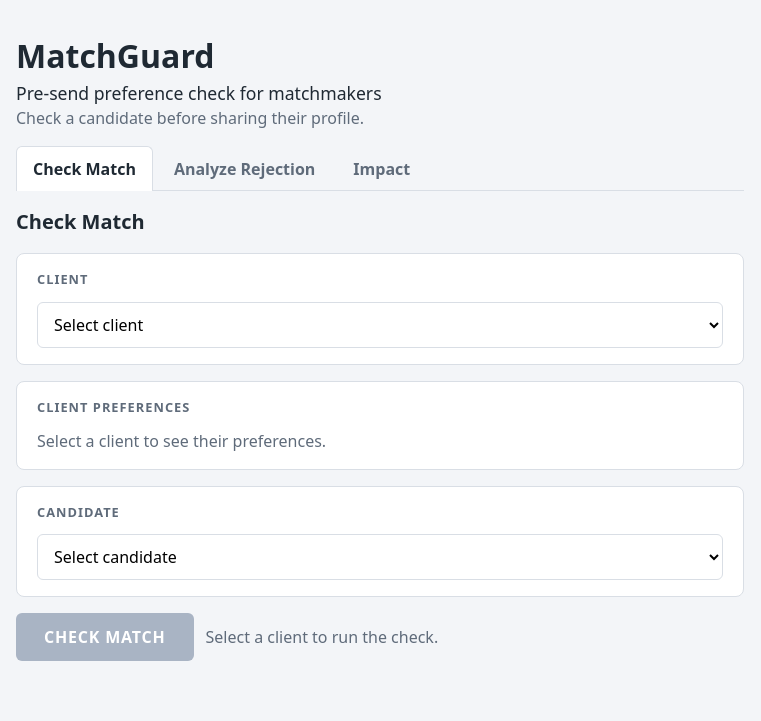
Test: App › runs a check and shows the result
Select "Rahul" in the dropdown labelled "Client" at point(380, 325), box x1=37 y1=302 x2=723 y2=348
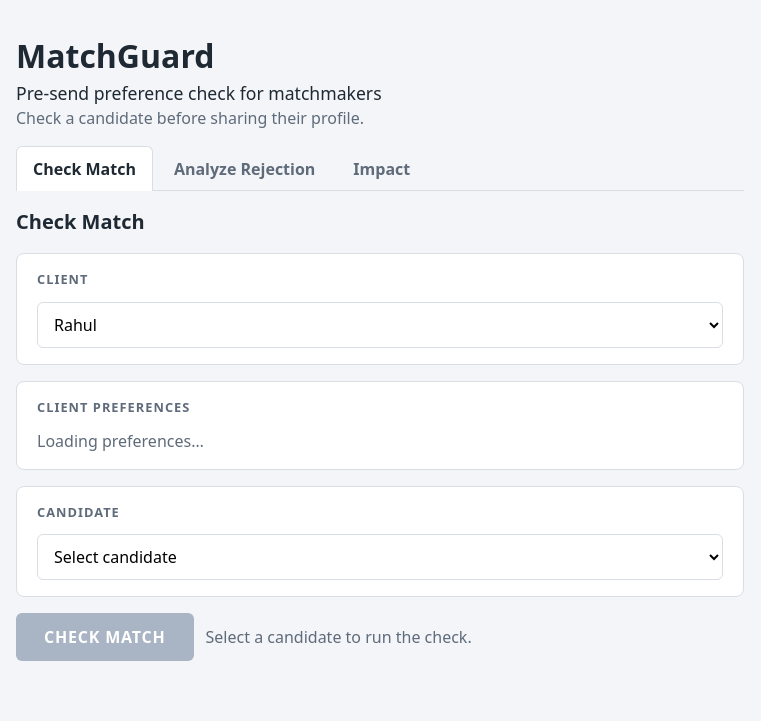
Select "Ishita — 29 · Delhi NCR" in the dropdown labelled "Candidate" at point(380, 557), box x1=37 y1=534 x2=723 y2=580
(page scrolled)
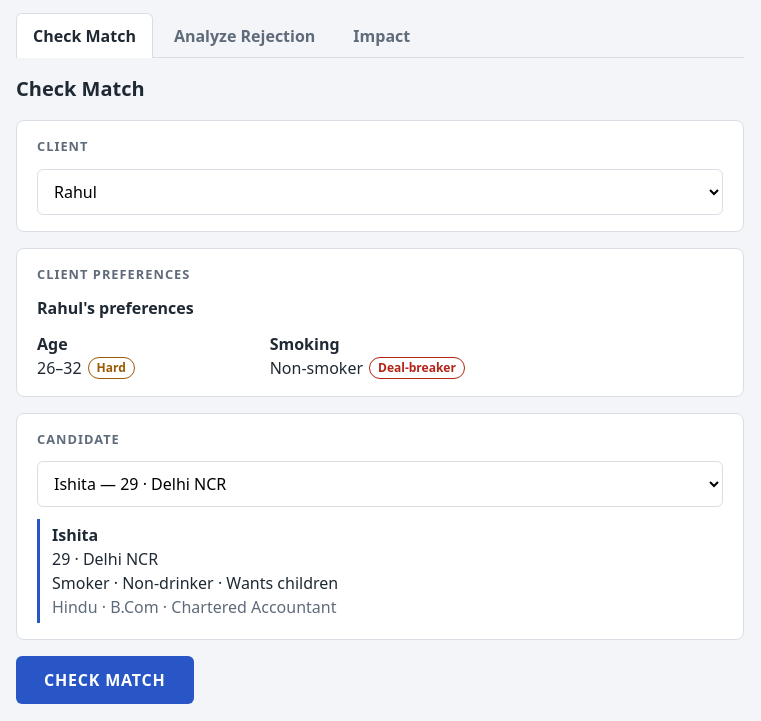
Result: the text "Rahul's preferences" is shown at x1=37 y1=297 x2=194 y2=319
Click the button "Check match" at point(105, 680), box x1=16 y1=656 x2=194 y2=704
(page scrolled)
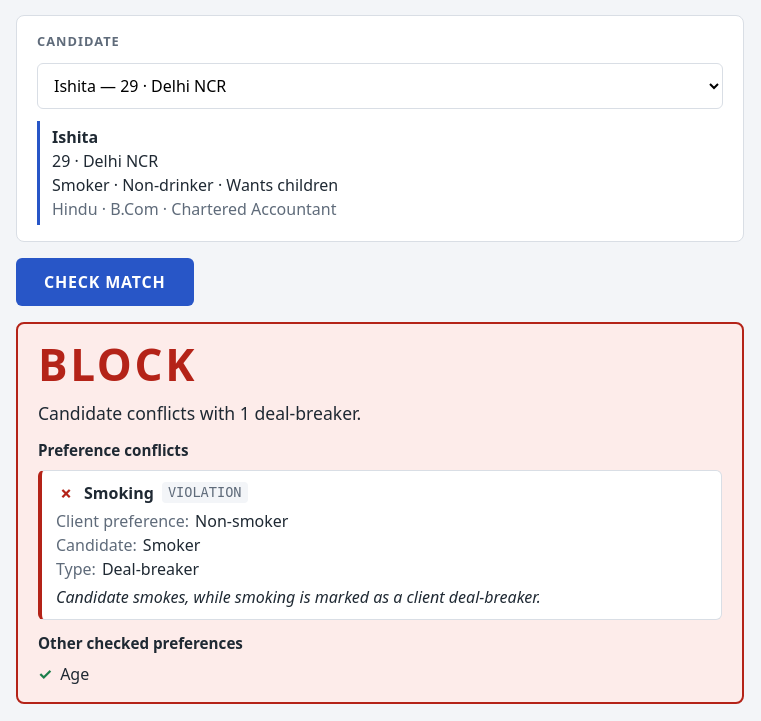
Result: the heading "BLOCK" is shown at x1=38 y1=334 x2=197 y2=394
Result: the text "Candidate conflicts with 1 deal-breaker." is shown at x1=38 y1=401 x2=361 y2=425
